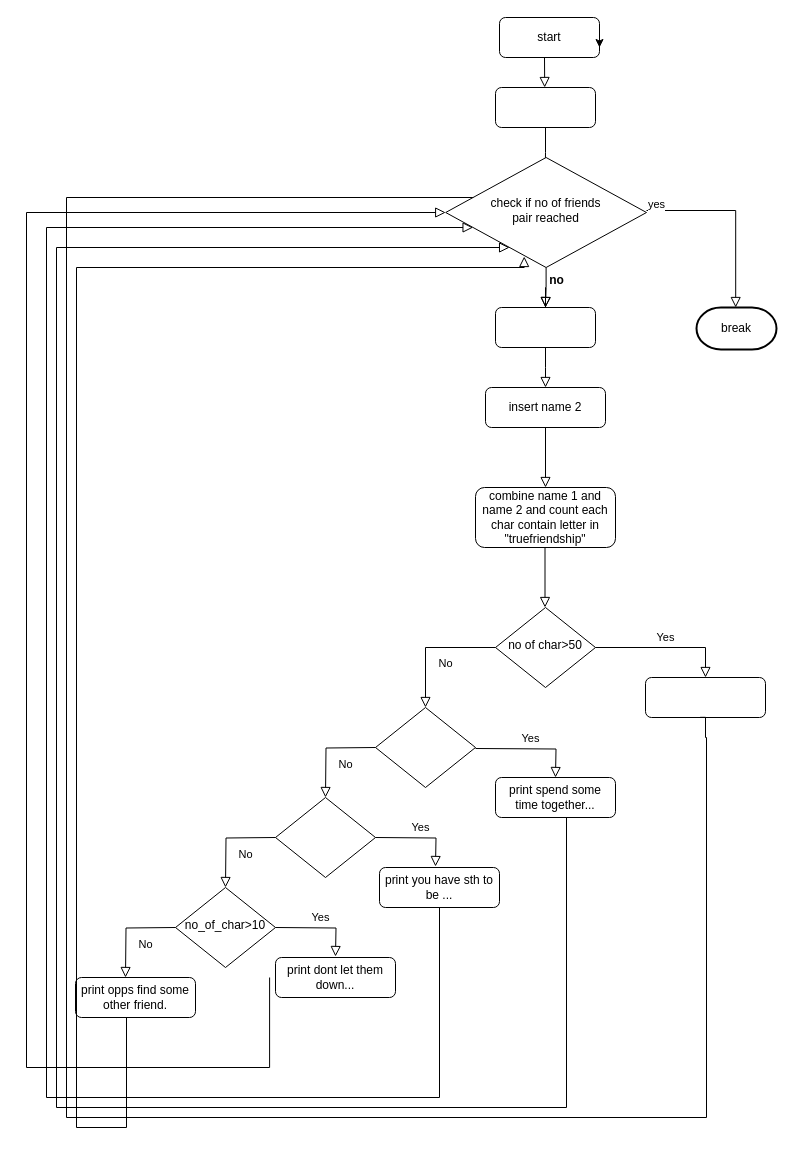
This 795x1155 diagram has some shape labels left out. The shapes that lost their labels are listed below. From the top down, each one's centre as x and y in pixels, then its label:
At point (545, 107): "insert no of friends pair.".
At point (545, 327): "insert name one".
At point (705, 697): "print congrats...".
At point (425, 747): "no_of_char>35".
At point (325, 837): "no_of_char>15".
